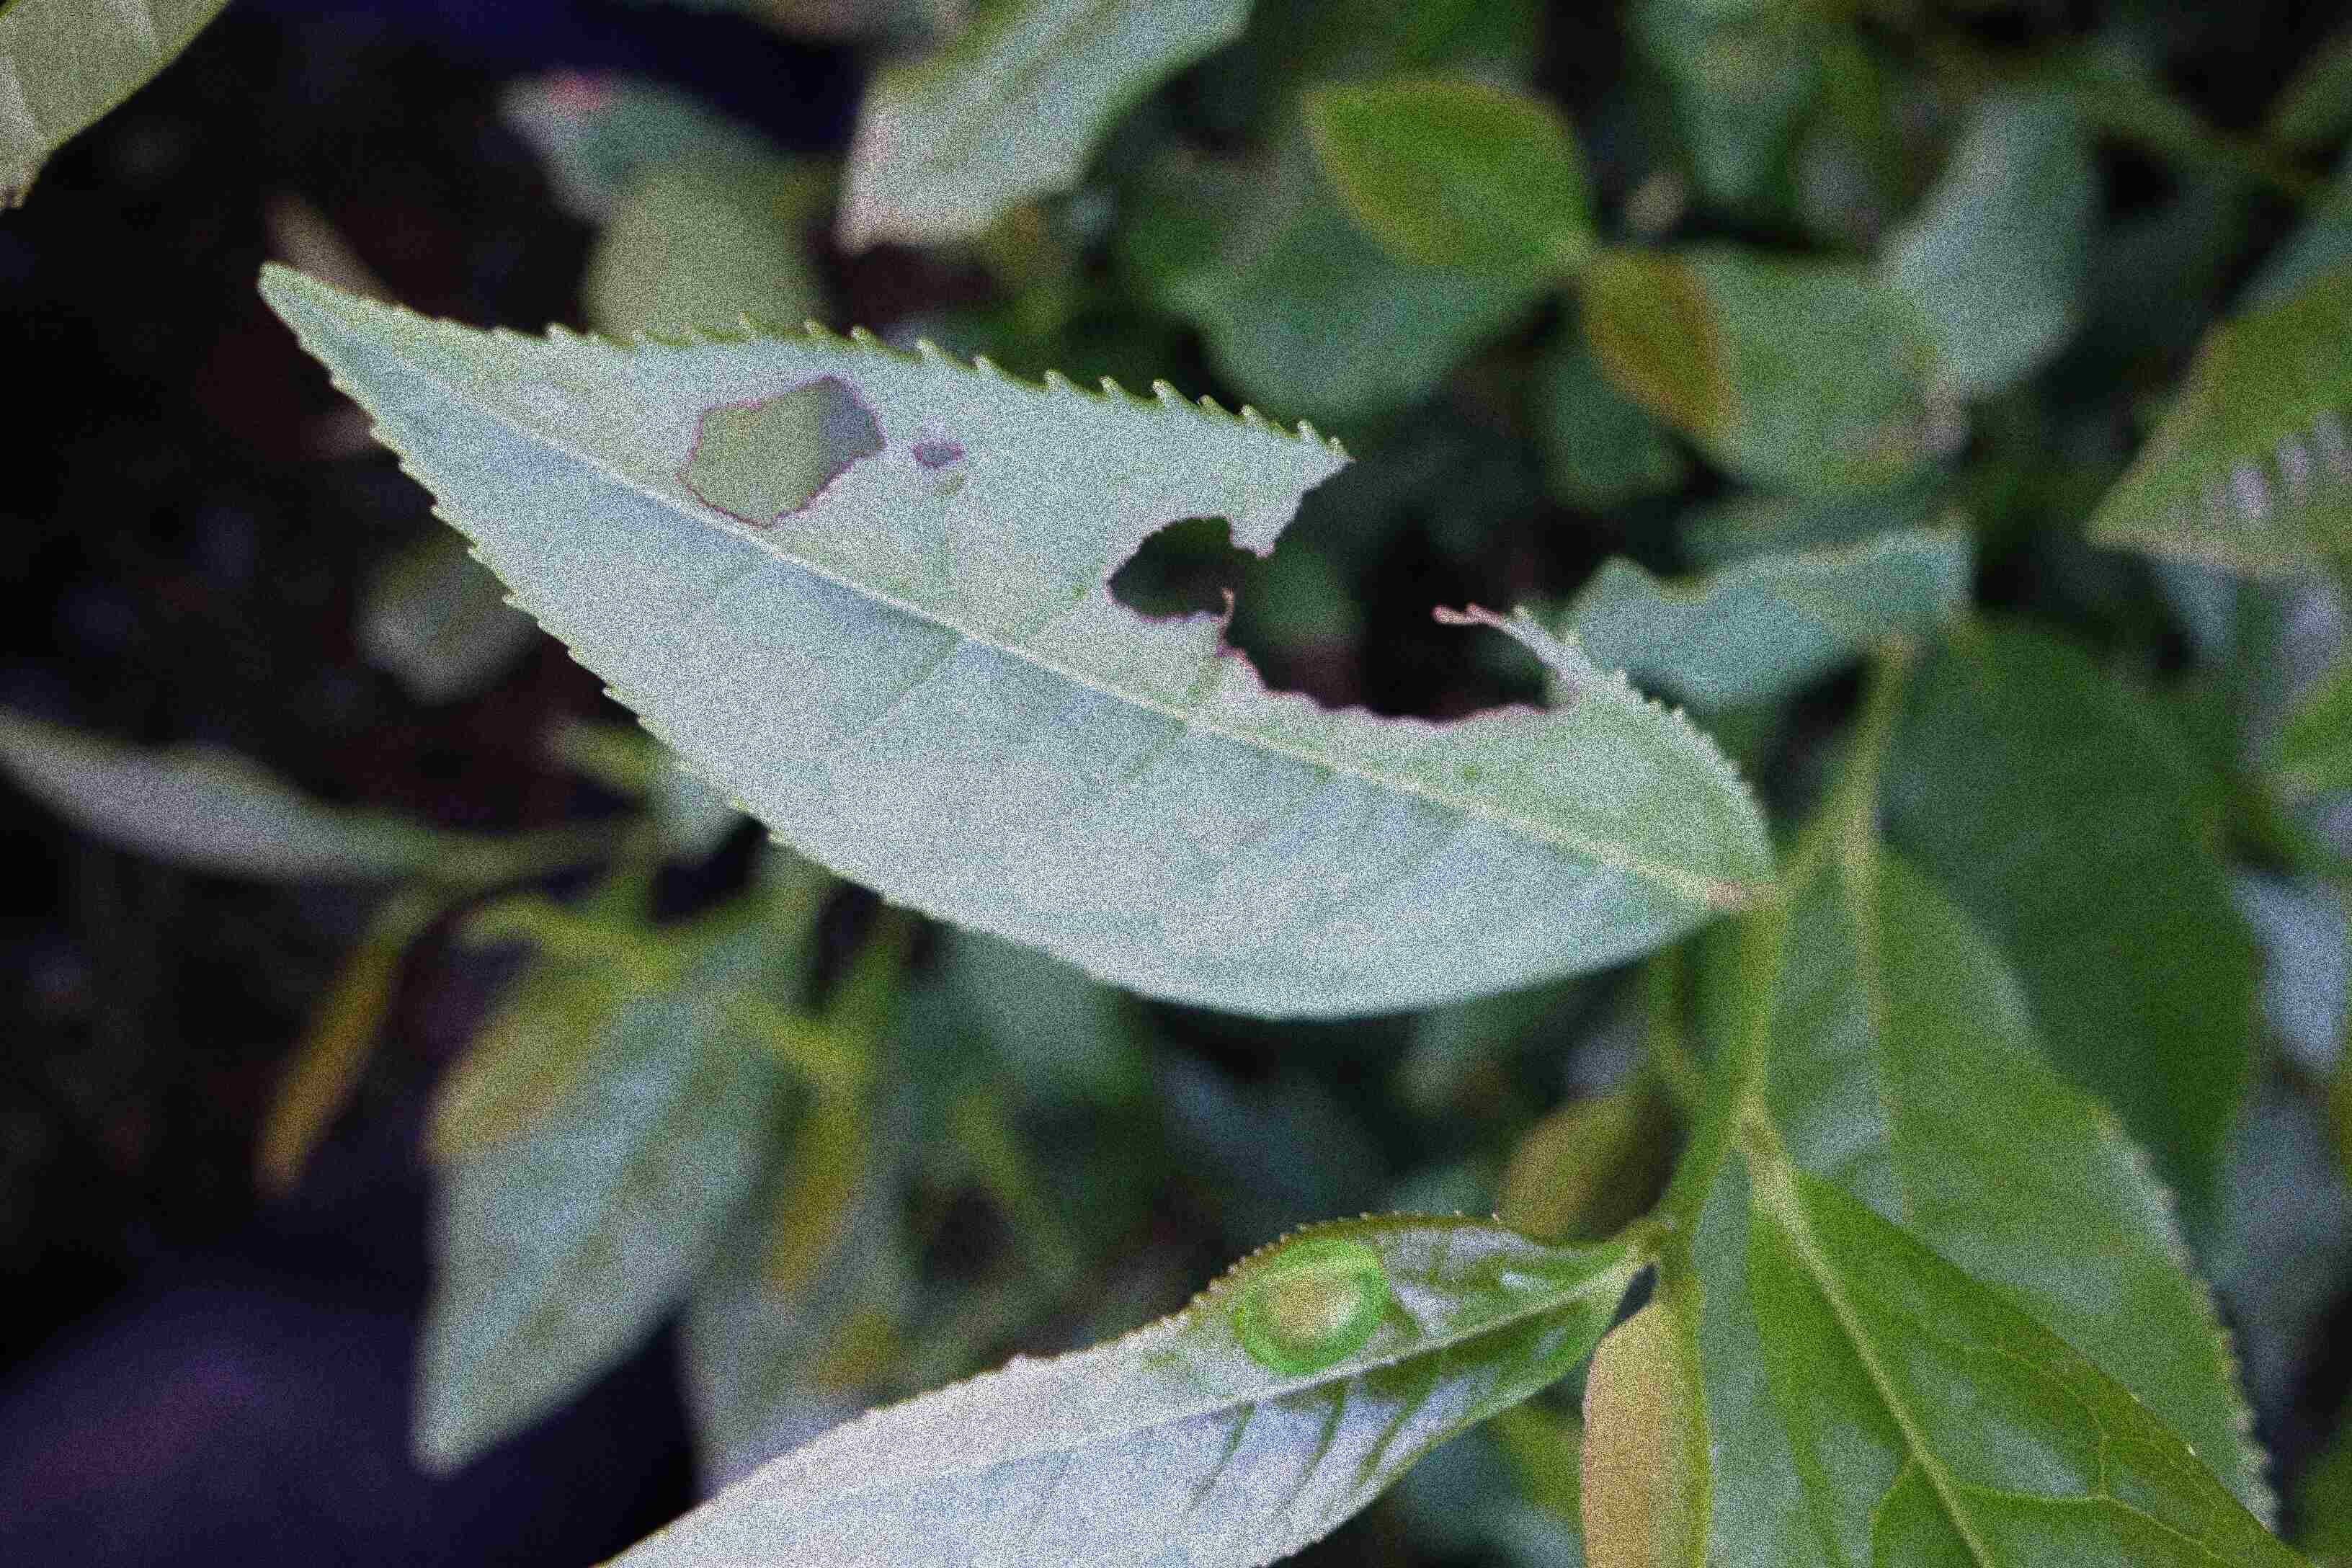chabing_low: (595, 1206, 1655, 1564)
chihuo_high: (252, 257, 1783, 1022)
